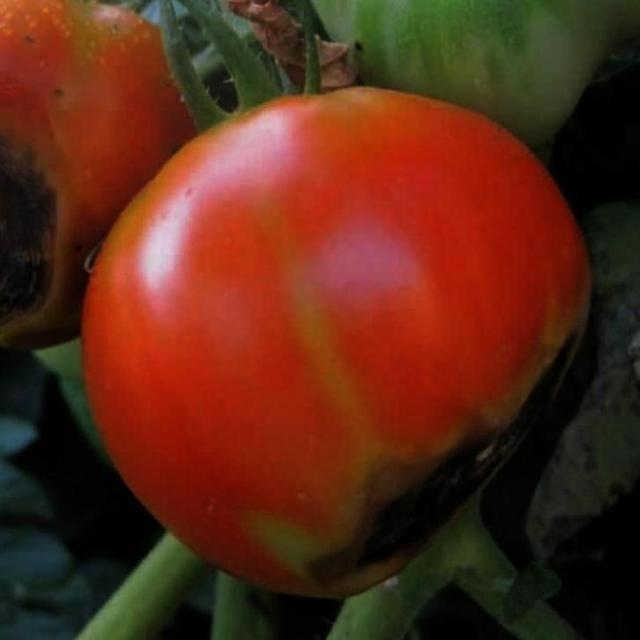Blossom End Rot Fruit: (26, 134, 295, 280)
